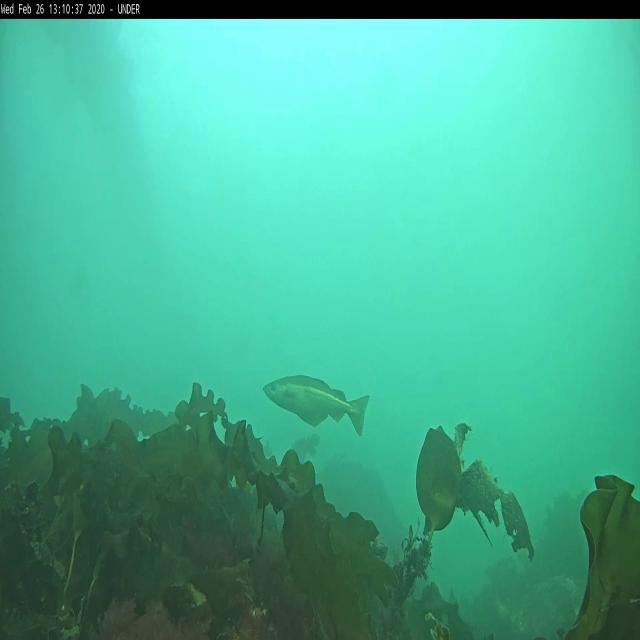fish: (262, 370, 364, 434)
